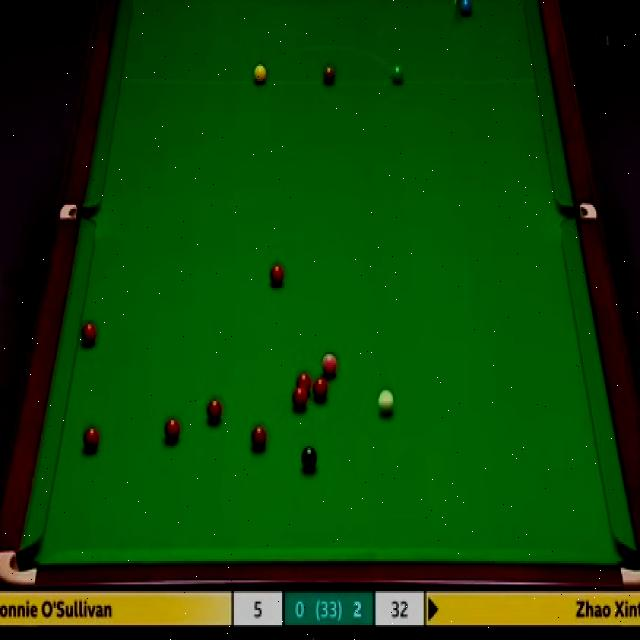black-ball: (300, 445, 318, 471)
blue-ball: (460, 0, 472, 17)
brown-ball: (323, 64, 337, 85)
green-ball: (390, 64, 405, 87)
pink-ball: (321, 351, 337, 378)
red-ball: (80, 320, 98, 346), (164, 417, 181, 444), (294, 371, 312, 396), (250, 424, 267, 450), (205, 399, 222, 423), (82, 426, 100, 448), (268, 264, 284, 288), (315, 374, 331, 397), (292, 387, 307, 409)
white-ball: (377, 389, 395, 419)
yellow-ball: (252, 63, 268, 85)
